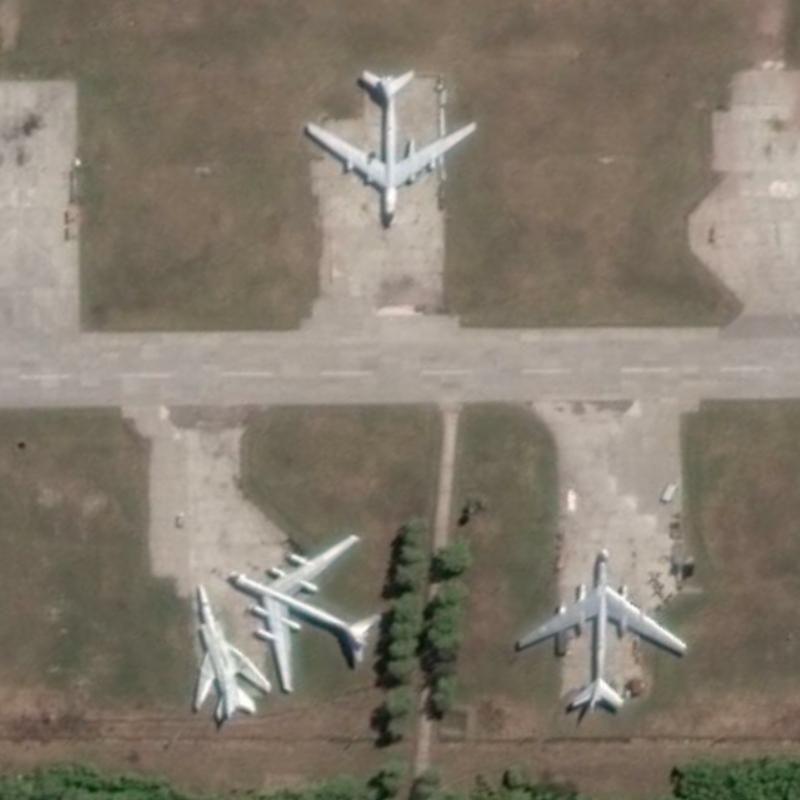A12: (190, 580, 273, 722)
A17: (514, 545, 689, 712), (303, 66, 479, 229), (224, 531, 383, 695)
